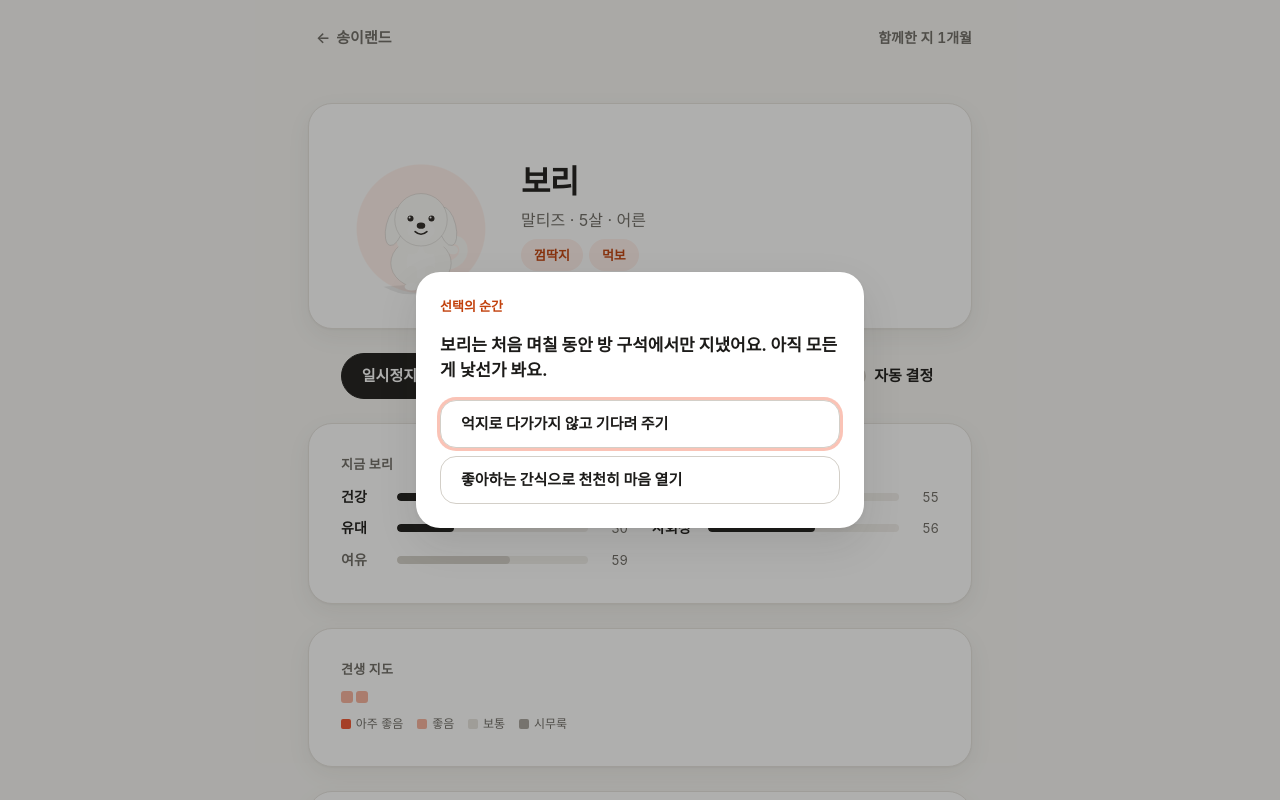
stops the clock on a choice card until a choice is made
The image size is (1280, 800).
Click the button "억지로 다가가지 않고 기다려 주기" at (640, 424), box [440,400,840,448]
Wait 5000 ms
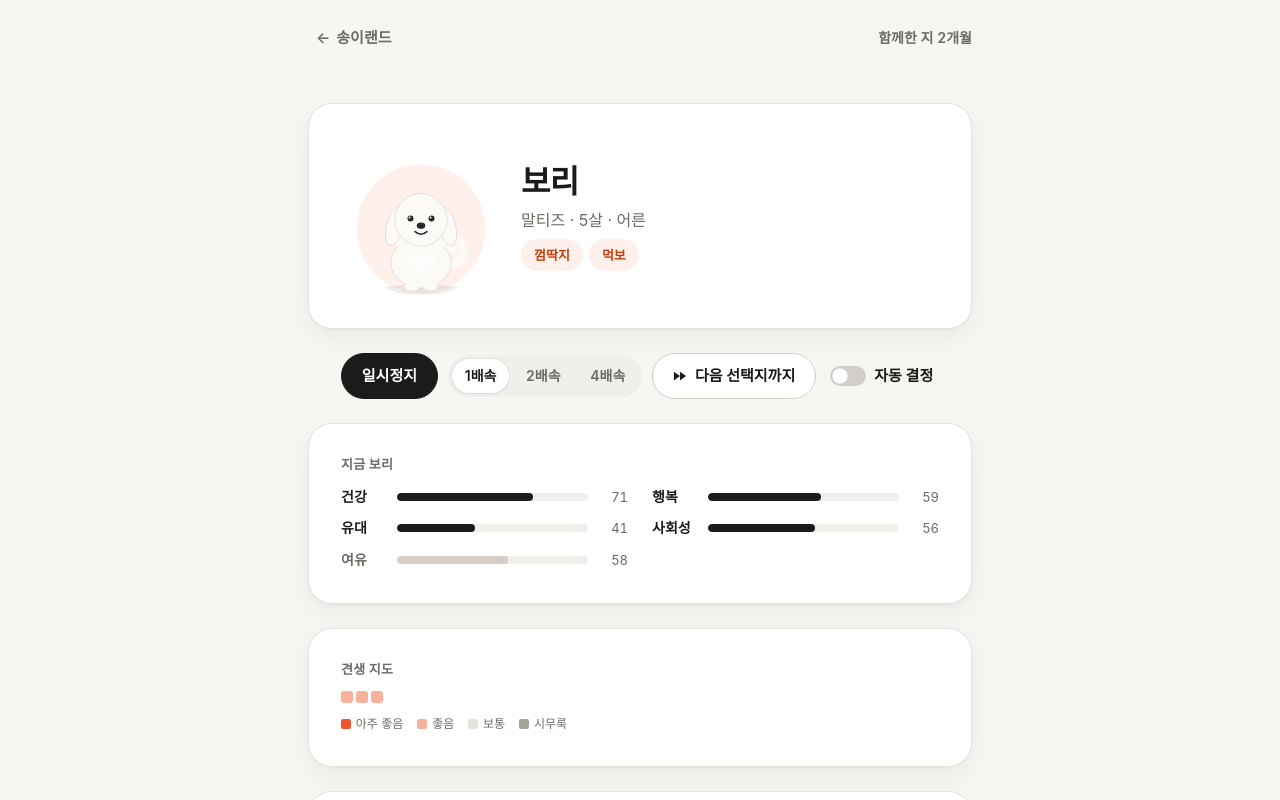
expect the dialog is gone: met
